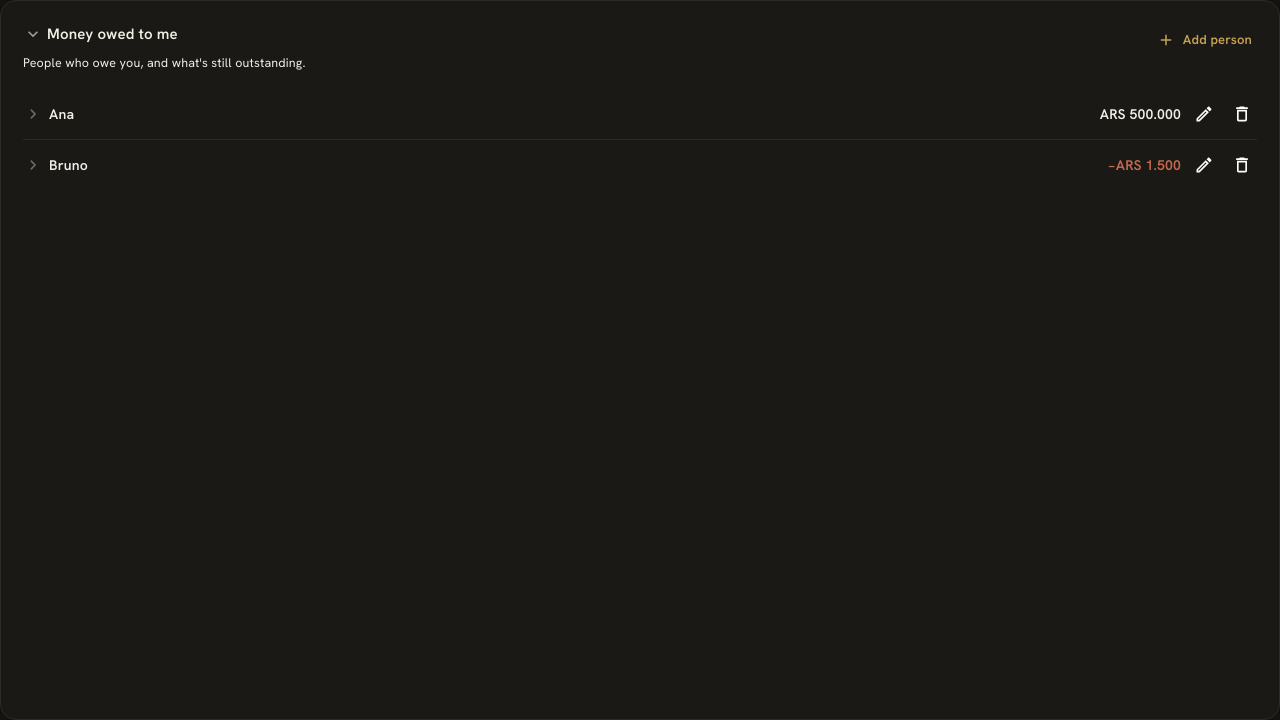
Test: ReceivablesSection › a negative item remainder (overpaid) renders red + signed
The image size is (1280, 720).
Expected: the text "Bruno" is shown, [49,154,88,176]
Click the button with aria-label "Show Bruno's items" at x=68, y=164, box [23,154,1181,176]
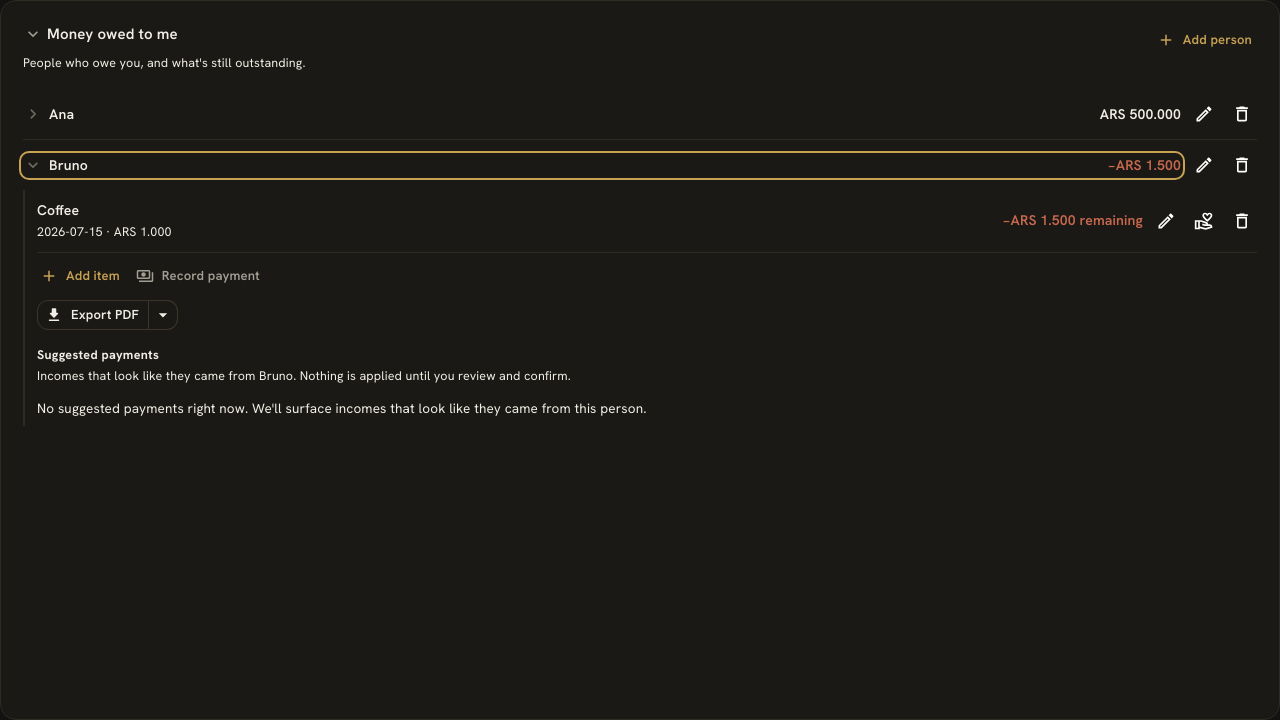
Expected: the text "Coffee" is shown, [37,200,79,221]
